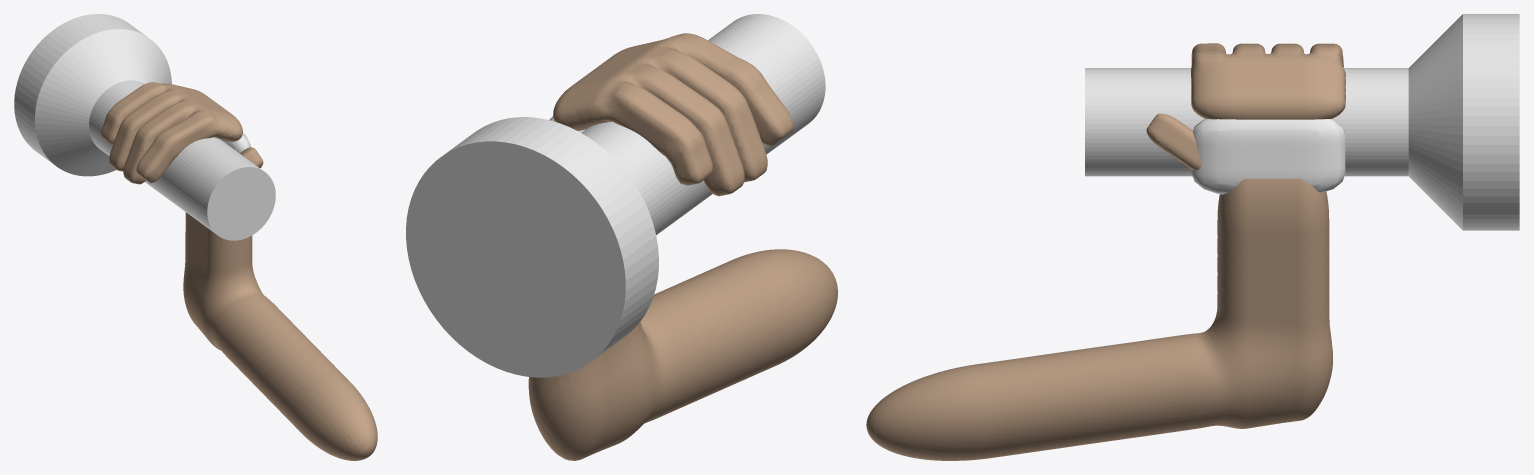
The model's file is flashLight.fbx.
3 renders of one model, left to right at view 1: azimuth 30°, elevation 25°; view 2: azimuth 150°, elevation 25°; view 3: azimuth 270°, elevation 25°, orthographic. The views are drawn at different scales.
Visible parts, largest first — view 1: Mball, Cylinder.001, light; view 2: Mball, Cylinder.001, light; view 3: Mball, Cylinder.001, light, arm.
Part boxes in pixels (bbox=[...]): Mball: bbox=[101, 82, 377, 460]; Cylinder.001: bbox=[14, 14, 171, 176]; light: bbox=[89, 80, 275, 240]; Mball: bbox=[528, 33, 837, 460]; Cylinder.001: bbox=[406, 117, 658, 377]; light: bbox=[581, 14, 825, 235]; Mball: bbox=[866, 43, 1345, 460]; Cylinder.001: bbox=[1408, 14, 1519, 230]; light: bbox=[1085, 68, 1408, 176]; arm: bbox=[1191, 118, 1345, 194].
Size of the model in its own units: 212 by 410 by 603.
